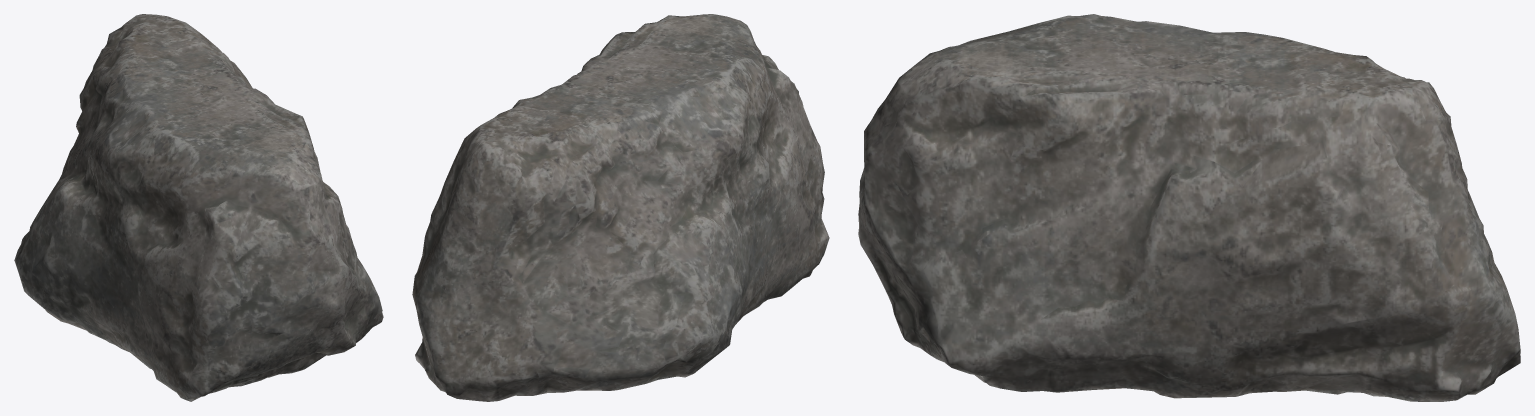
File: SM_RP_Vol_01_04.fbx
The picture shows the model from 3 angles, left to right: view 1: azimuth 30°, elevation 25°; view 2: azimuth 150°, elevation 25°; view 3: azimuth 270°, elevation 25°; orthographic projection. The views are drawn at different scales.
Visible parts, largest first — view 1: SM_RP_Vol_01_04; view 2: SM_RP_Vol_01_04; view 3: SM_RP_Vol_01_04.
Part boxes in pixels (box(x1,y1,x2,y2)): SM_RP_Vol_01_04: box(14, 14, 383, 401); SM_RP_Vol_01_04: box(412, 14, 829, 401); SM_RP_Vol_01_04: box(858, 14, 1520, 401).
Size of the model in its own units: 23.15 by 20.69 by 42.02.
Materials: 1 (1 with a texture image).
